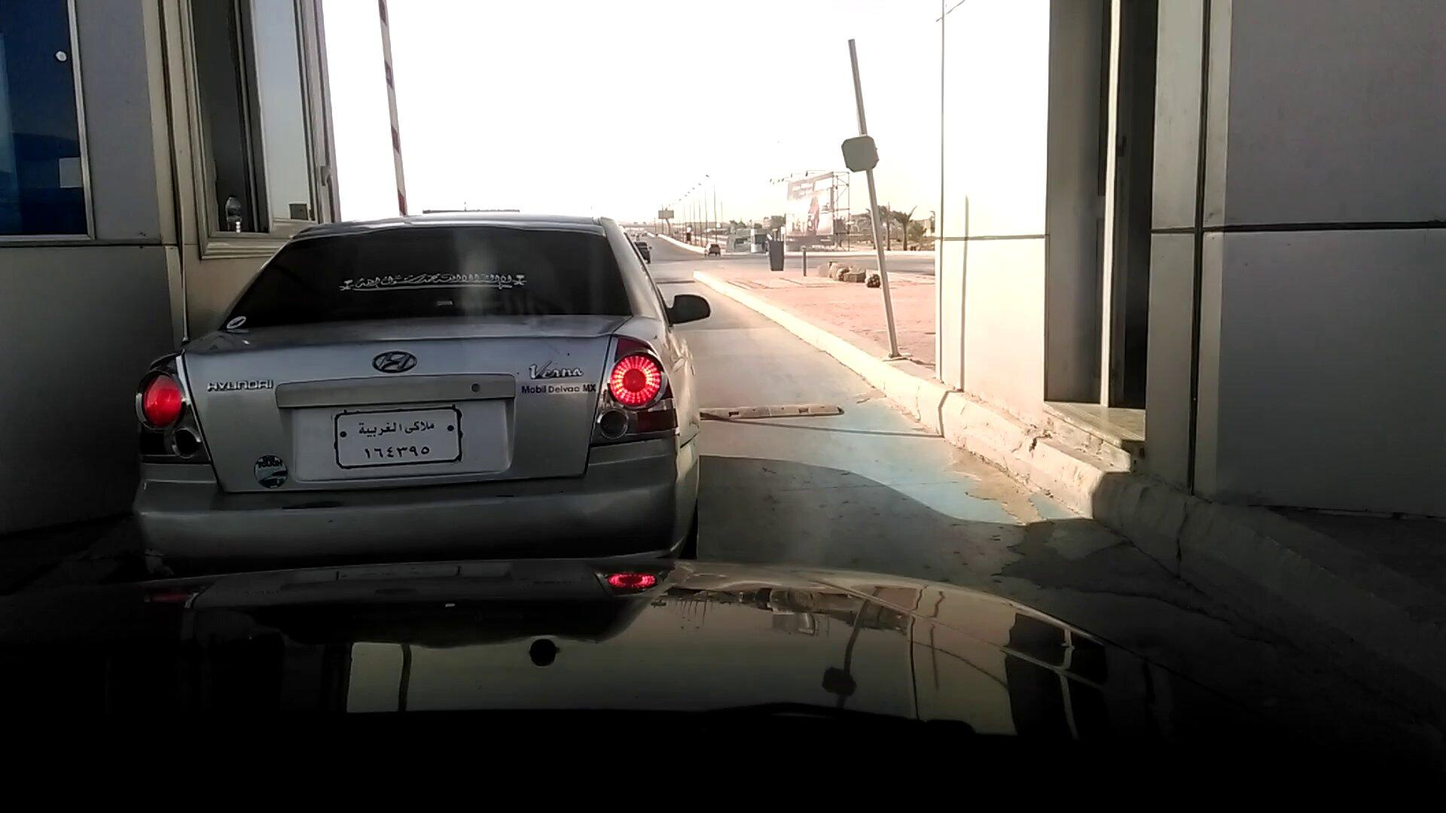Bump: (706, 395, 874, 454)
